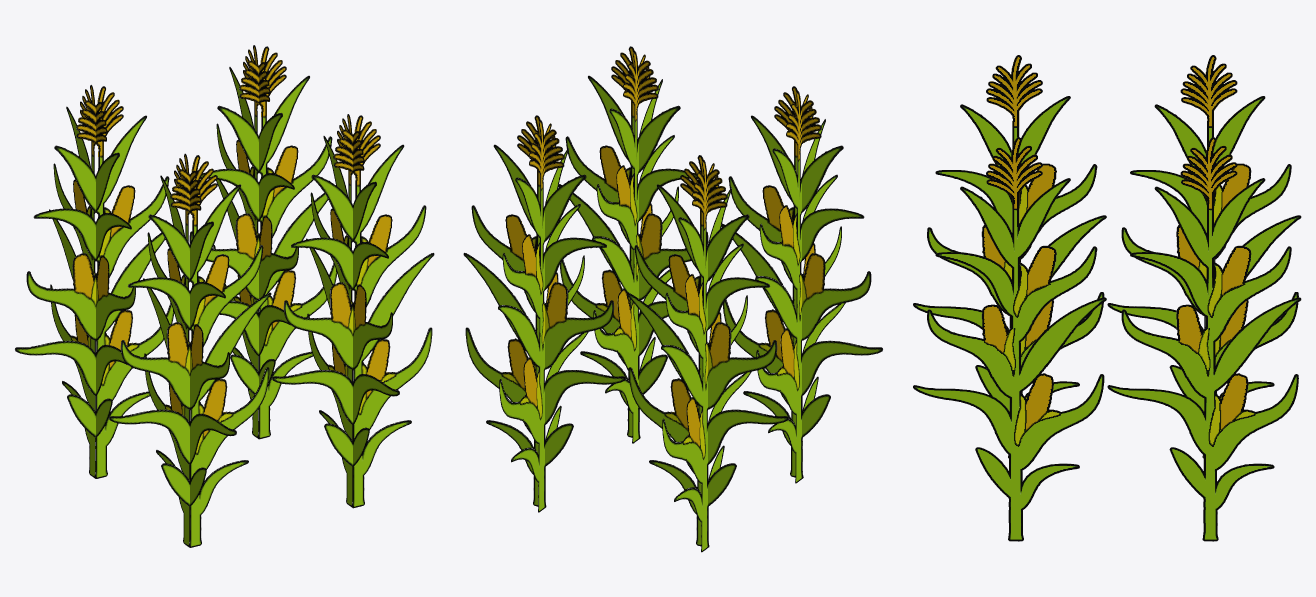
File: CornStalk.fbx
3 views of the same model, side by side, from view 1: azimuth 30°, elevation 25°; view 2: azimuth 150°, elevation 25°; view 3: azimuth 270°, elevation 25° (orthographic). The views are drawn at different scales.
Parts seen in each view (by area): view 1: Plane.002; view 2: Plane.002; view 3: Plane.002.
Boxes of the visible parts, bbox=[...] form: Plane.002: bbox=[15, 45, 434, 547]; Plane.002: bbox=[463, 46, 882, 552]; Plane.002: bbox=[913, 55, 1301, 541].
Size of the model in its own units: 2.4 by 2.4 by 2.75.
